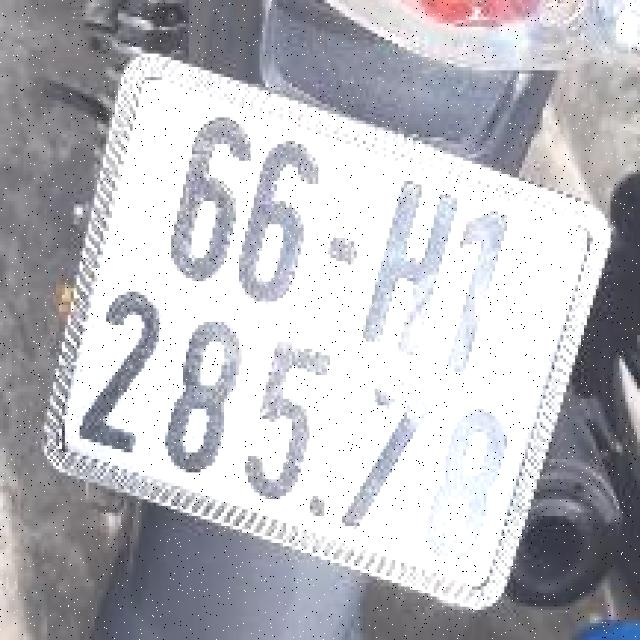1: (429, 196, 526, 386)
2: (70, 275, 188, 462)
5: (236, 326, 343, 508)
6: (228, 123, 337, 316), (160, 101, 267, 293)
7: (332, 362, 441, 541)
8: (152, 305, 261, 485), (412, 395, 522, 573)
H: (350, 166, 478, 367)
